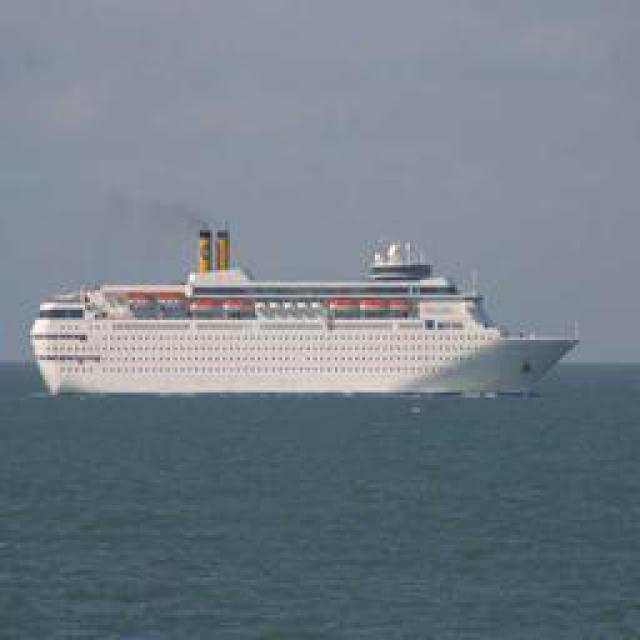Ship: (29, 235, 589, 400)
